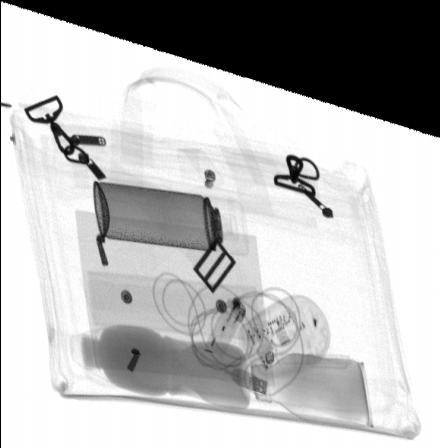Lighter: (204, 280, 246, 347)
Sprayer: (92, 174, 250, 241)
